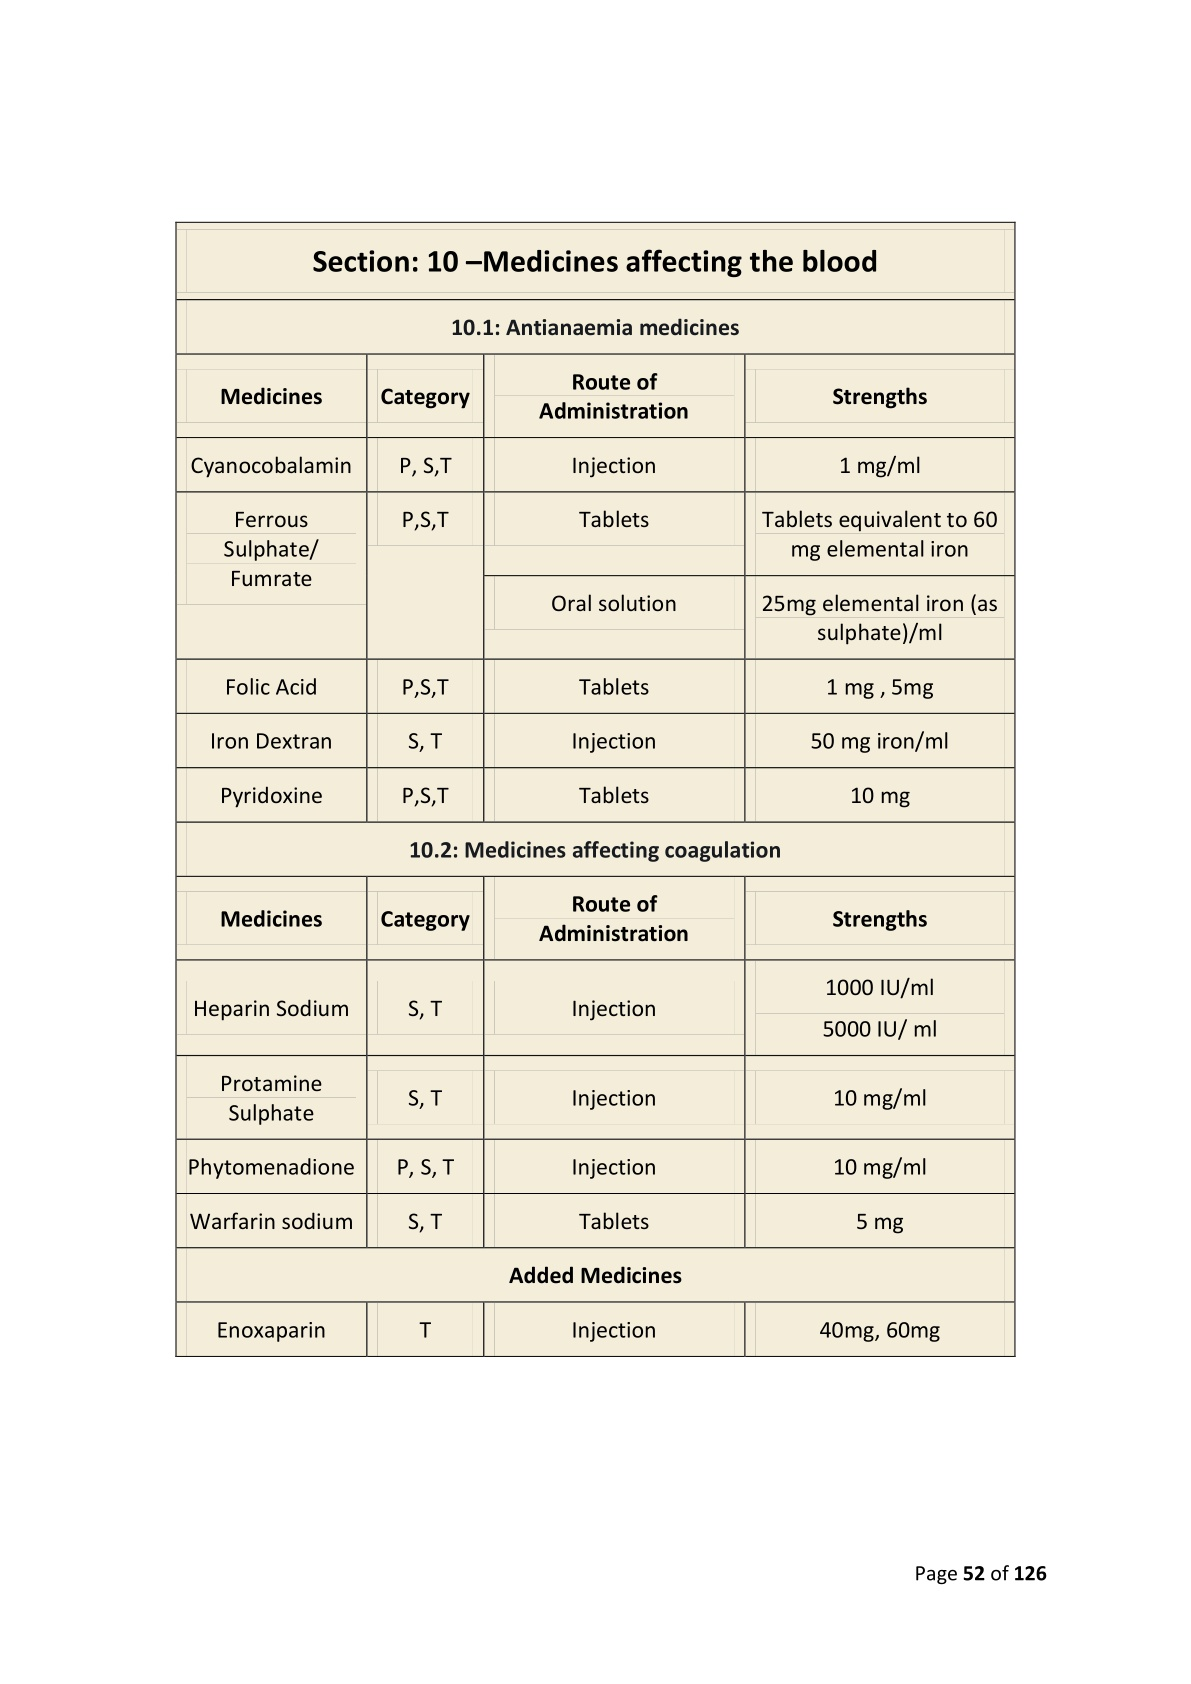merged_cells: (175, 222, 1017, 1357)
